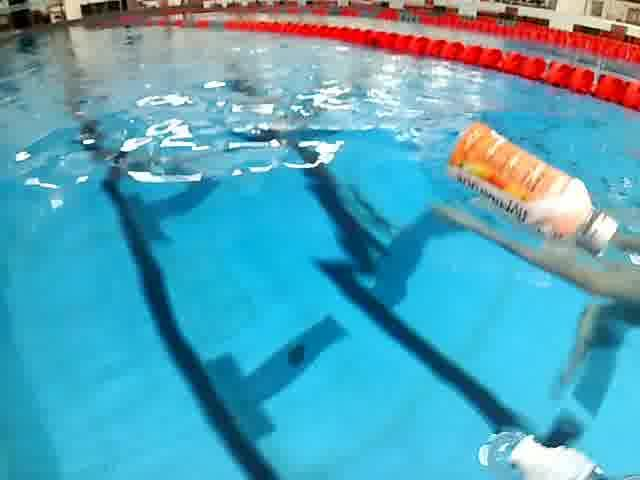Bottle: (439, 113, 621, 266), (476, 424, 640, 480)
